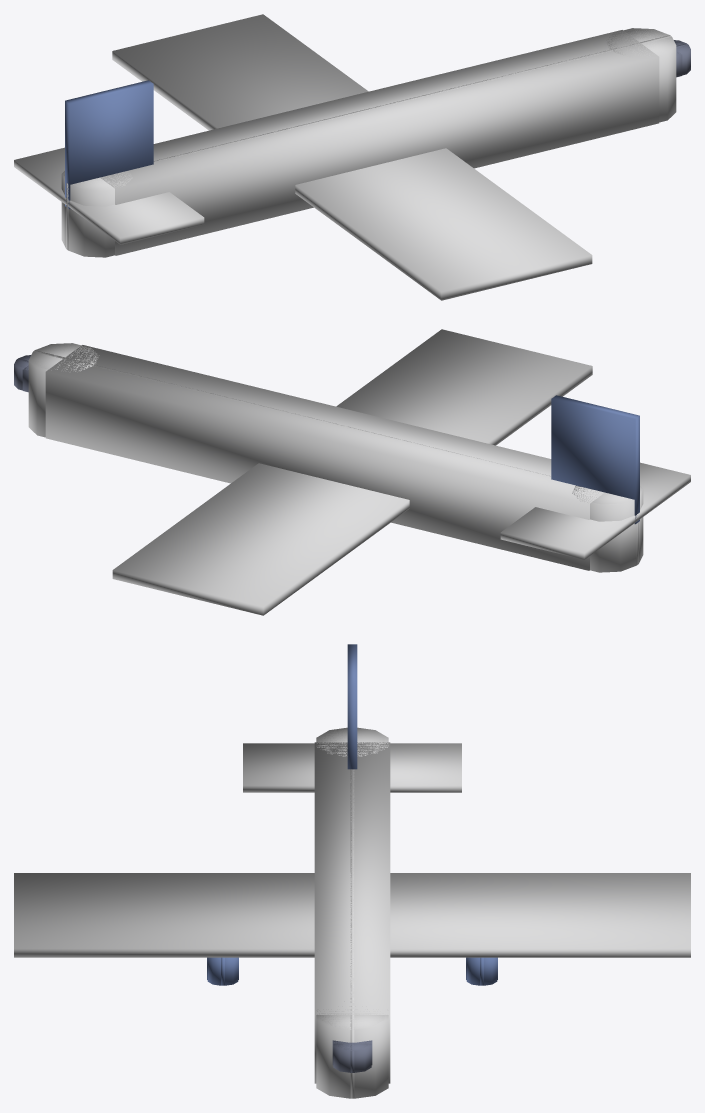
3 views of the same model, one above another, from view 1: azimuth 30°, elevation 25°; view 2: azimuth 150°, elevation 25°; view 3: azimuth 270°, elevation 25° (orthographic). The views are drawn at different scales.
Parts seen in each view (by area): view 1: plane; view 2: plane; view 3: plane.
Boxes of the visible parts, x1,y1,x2,y2 form: plane: [14, 14, 690, 300]; plane: [14, 329, 690, 615]; plane: [14, 644, 690, 1098].
Bounding box in the file's own units: 37 × 8.9 × 34.
